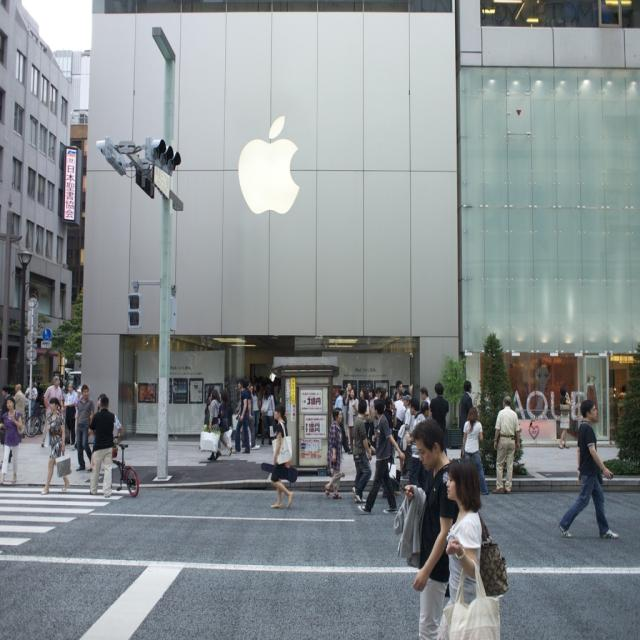Healty Apple: (236, 116, 298, 214)
